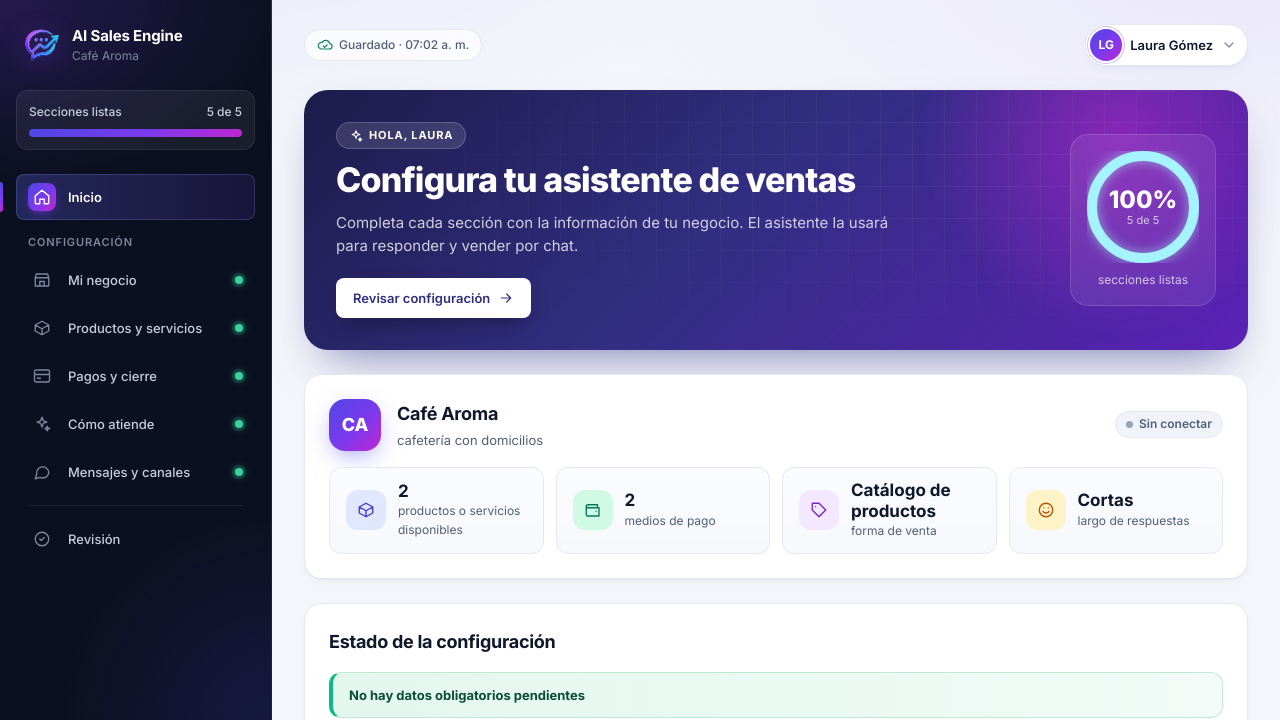
Test case: Cuenta y sesión (acceso local sin verificación) › el menú de la cuenta se cierra con Escape y devuelve el foco al botón
Check: the heading "Configura tu asistente de ventas" is shown, box [336, 161, 896, 199]
Click the button "LG Laura Gómez".
click(1167, 45)  # box [1085, 24, 1248, 66]
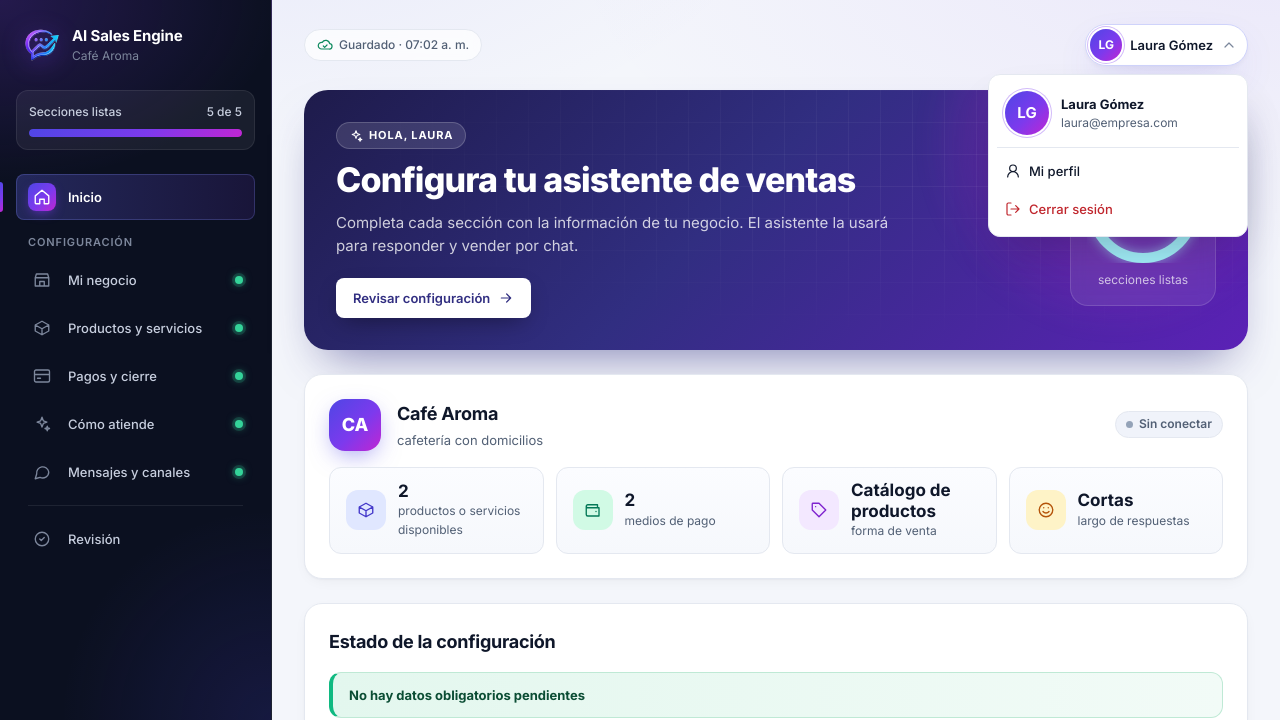
Check: the link "Mi perfil" is shown, box [1005, 163, 1080, 179]
Press Escape
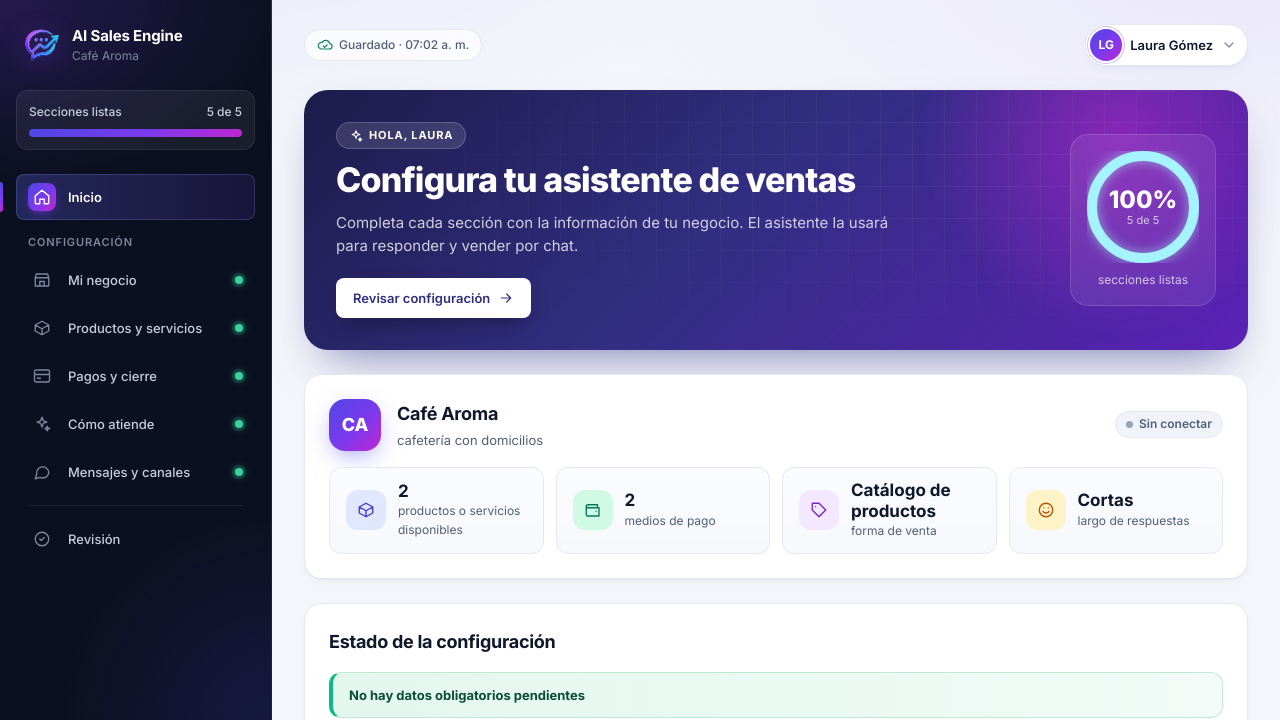
Check: the link "Mi perfil" is gone
